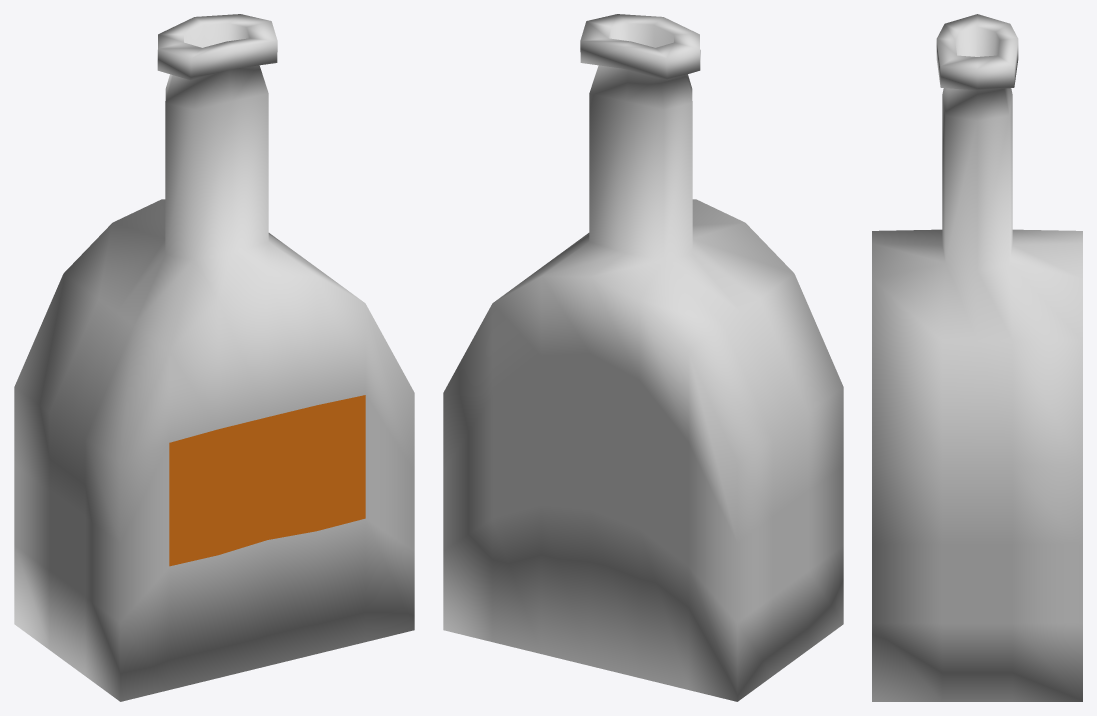
File: potion4.fbx
3 views of the same model, side by side, from view 1: azimuth 30°, elevation 25°; view 2: azimuth 150°, elevation 25°; view 3: azimuth 270°, elevation 25° (orthographic).
Visible parts, largest first — view 1: Cube; view 2: Cube; view 3: Cube.
Boxes of the visible parts, <box> form: Cube: <box>14,14,414,701</box>; Cube: <box>443,14,843,701</box>; Cube: <box>872,14,1082,701</box>.
Bounding box in the file's own units: 233 × 450 × 145.
